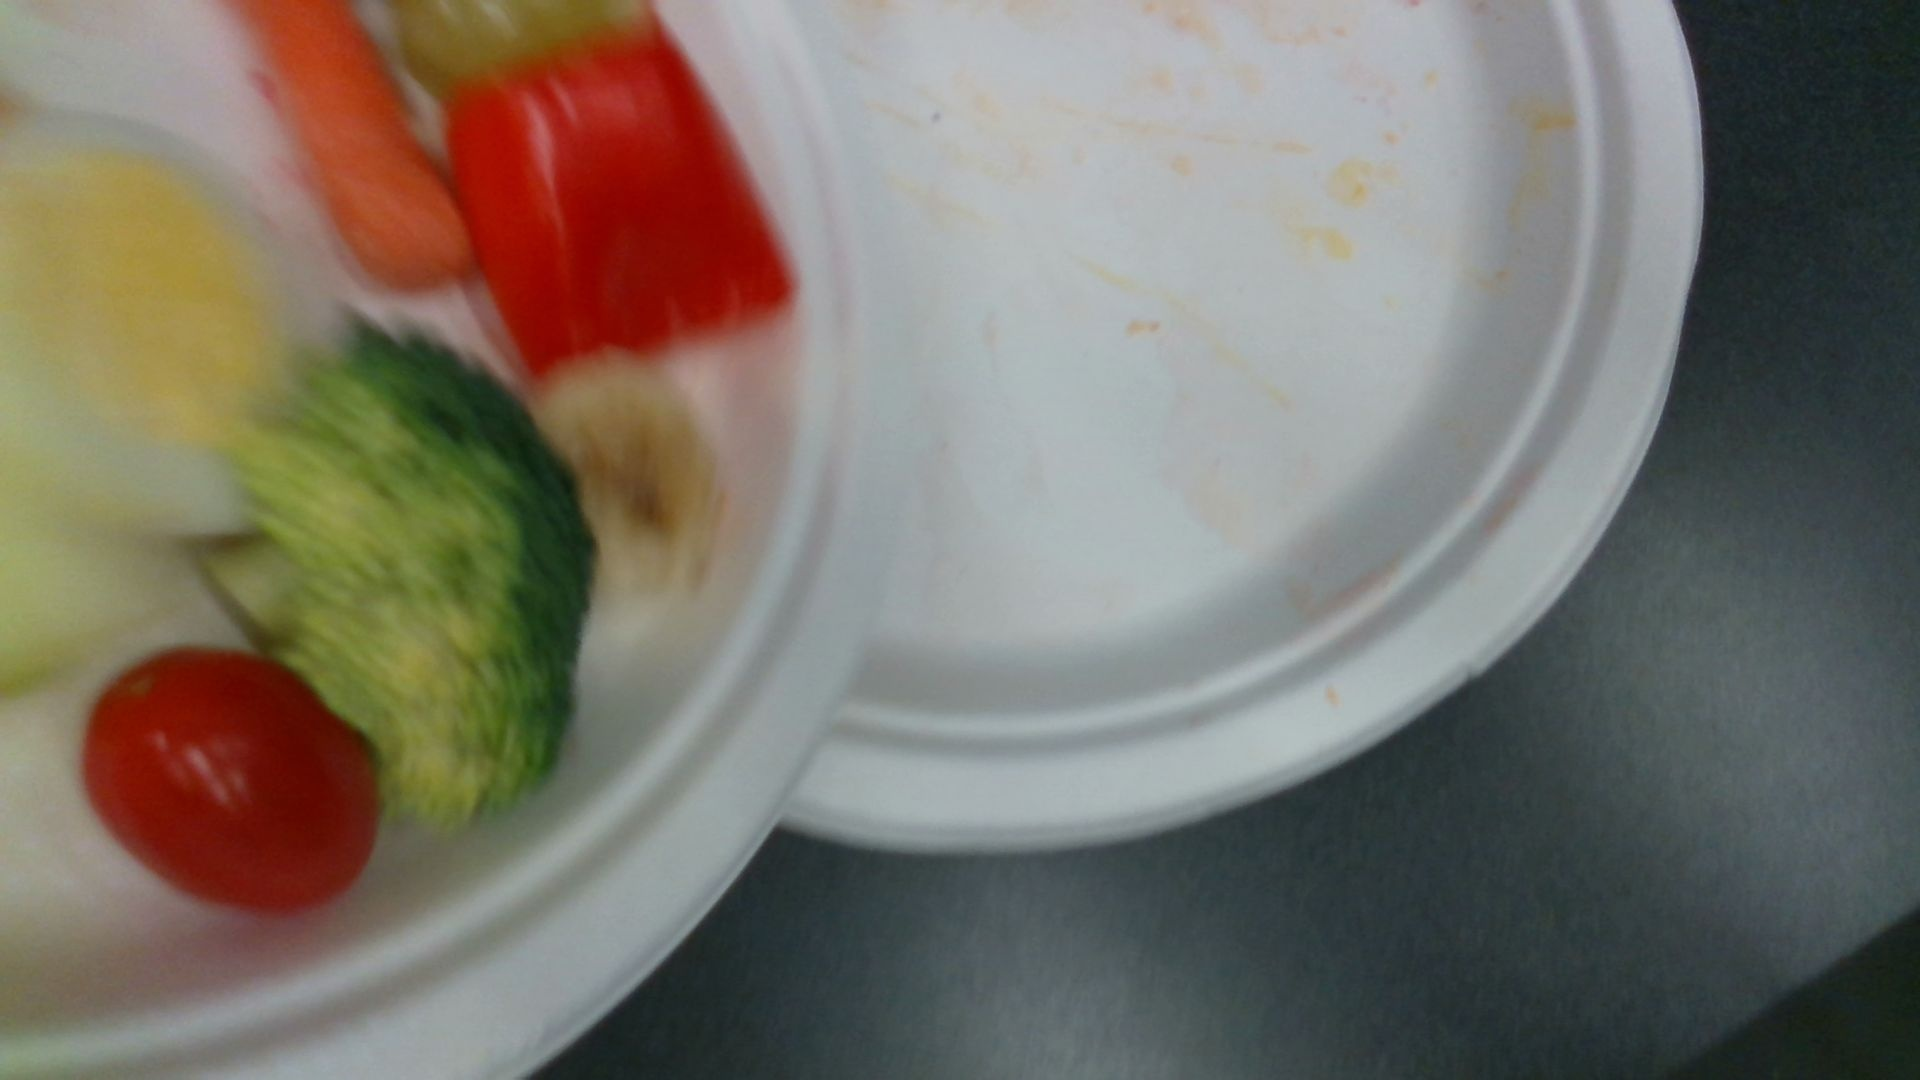banana: (520, 355, 735, 595)
bell_pepper: (444, 36, 800, 386)
broccoli: (196, 328, 587, 828)
carrot: (239, 1, 473, 291)
cherry_tomato: (84, 650, 385, 918)
egg: (1, 109, 352, 535)
